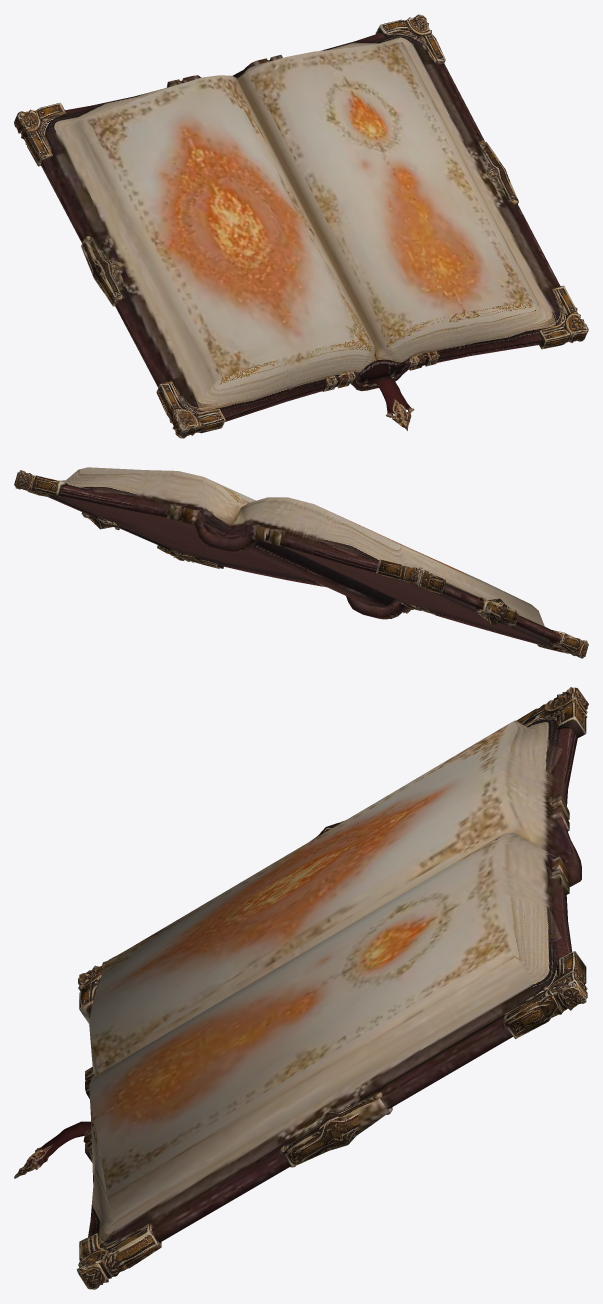
File: magic_book.glb
3 renders of one model, top to bottom at view 1: azimuth 30°, elevation 25°; view 2: azimuth 150°, elevation 25°; view 3: azimuth 270°, elevation 25°, orthographic. The views are drawn at different scales.
Visible parts, largest first — view 1: tripo_node_64bd3047-cc4b-46a8-a861-571706d38058; view 2: tripo_node_64bd3047-cc4b-46a8-a861-571706d38058; view 3: tripo_node_64bd3047-cc4b-46a8-a861-571706d38058.
Boxes of the visible parts, box(x1,y1,x2,y2) form: tripo_node_64bd3047-cc4b-46a8-a861-571706d38058: box(14, 14, 588, 438); tripo_node_64bd3047-cc4b-46a8-a861-571706d38058: box(14, 467, 588, 658); tripo_node_64bd3047-cc4b-46a8-a861-571706d38058: box(14, 687, 588, 1289).
Size of the model in its own units: 0.998 by 0.5684 by 0.8066.
1 material, 1 textured.
